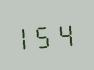five: (38, 20, 56, 49)
four: (57, 19, 75, 48)
one: (18, 21, 36, 50)
